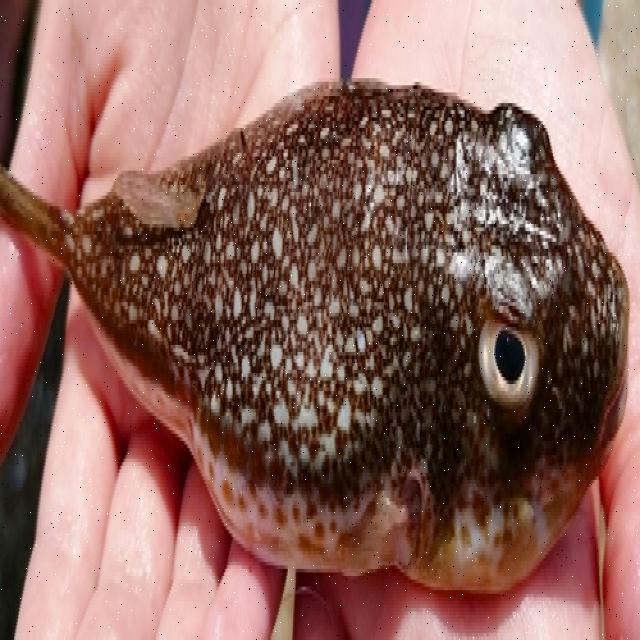Balik: (0, 82, 628, 590)
